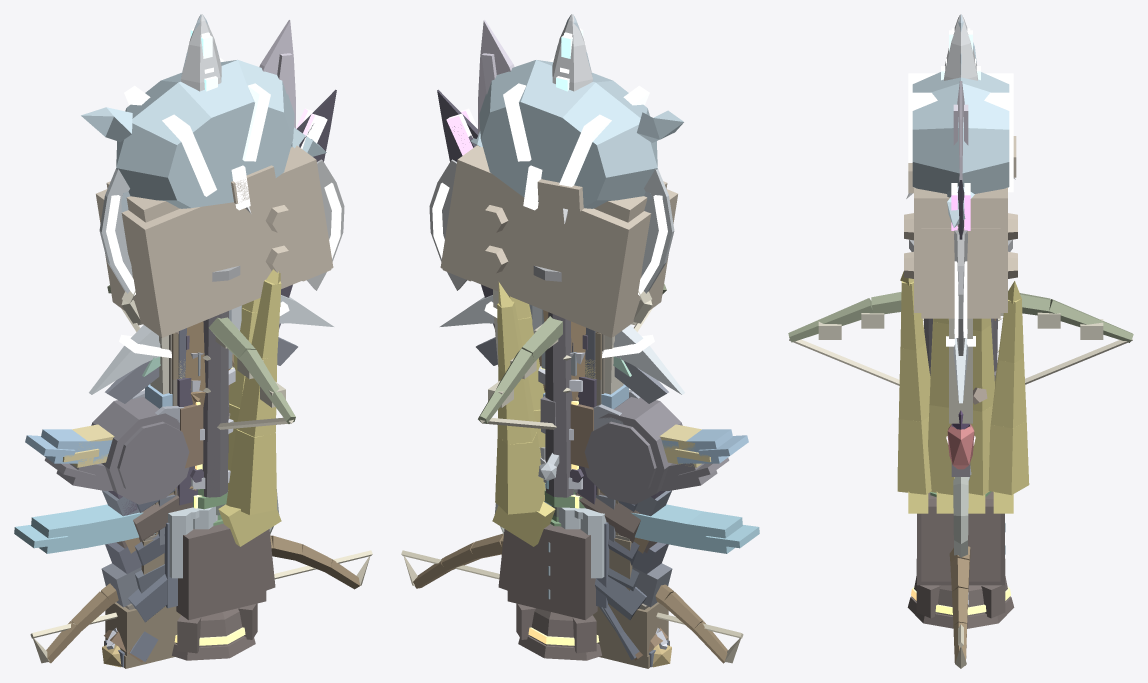
File: weapon.glb
3 renders of one model, left to right at view 1: azimuth 30°, elevation 25°; view 2: azimuth 150°, elevation 25°; view 3: azimuth 270°, elevation 25°, orthographic. The views are drawn at different scales.
Visible parts, largest first — view 1: Shellcrusher_Head, GlacierMaul_Head, MagmaGauntlets_Edge, MagmaGauntlets_Haft, VulkanRepeater_Mag, RiptideSmg_Mag, BasaltScattergun_Mag, GlacierMaul_Glow, GraveBlunderbuss_Haft, BogwoodBow_Haft, Shellcrusher_Spike, MagmaGauntlets_Guard (+31 smaller); view 2: Shellcrusher_Head, GlacierMaul_Head, MagmaGauntlets_Edge, MagmaGauntlets_Haft, VulkanRepeater_Mag, RiptideSmg_Mag, BasaltScattergun_Mag, GraveBlunderbuss_Haft, GlacierMaul_Glow, Shellcrusher_Spike, BogwoodBow_Haft, MagmaGauntlets_Guard (+30 smaller); view 3: MagmaGauntlets_Edge, Shellcrusher_Head, GlacierMaul_Head, MagmaGauntlets_Guard, GatorjawCrossbow_Edge, GlacierMaul_Glow, MagmaGauntlets_Haft, GatorjawCrossbow_Spike, BogwoodBow_Haft, Drowncleaver_Edge, GatorjawCrossbow_Action, Shellcrusher_Spike (+8 smaller).
Boxes of the visible parts, x1=… form: Shellcrusher_Head: x1=96, y1=145, x2=333, y2=337; GlacierMaul_Head: x1=116, y1=60, x2=294, y2=208; MagmaGauntlets_Edge: x1=218, y1=280, x2=281, y2=546; MagmaGauntlets_Haft: x1=176, y1=523, x2=266, y2=647; VulkanRepeater_Mag: x1=91, y1=397, x2=189, y2=504; RiptideSmg_Mag: x1=14, y1=504, x2=155, y2=553; BasaltScattergun_Mag: x1=202, y1=311, x2=229, y2=497; GlacierMaul_Glow: x1=124, y1=57, x2=270, y2=210; GraveBlunderbuss_Haft: x1=105, y1=333, x2=181, y2=666; BogwoodBow_Haft: x1=46, y1=535, x2=360, y2=663; Shellcrusher_Spike: x1=106, y1=165, x2=294, y2=272; MagmaGauntlets_Guard: x1=172, y1=529, x2=275, y2=660; Shellcrusher_Head: x1=440, y1=145, x2=677, y2=337; GlacierMaul_Head: x1=479, y1=60, x2=657, y2=208; MagmaGauntlets_Edge: x1=492, y1=296, x2=555, y2=546; MagmaGauntlets_Haft: x1=507, y1=524, x2=597, y2=647; VulkanRepeater_Mag: x1=584, y1=397, x2=682, y2=504; RiptideSmg_Mag: x1=618, y1=504, x2=759, y2=553; BasaltScattergun_Mag: x1=545, y1=312, x2=573, y2=497; GraveBlunderbuss_Haft: x1=592, y1=332, x2=668, y2=666; GlacierMaul_Glow: x1=503, y1=57, x2=649, y2=210; Shellcrusher_Spike: x1=479, y1=179, x2=667, y2=273; BogwoodBow_Haft: x1=413, y1=533, x2=727, y2=663; MagmaGauntlets_Guard: x1=498, y1=529, x2=601, y2=660; MagmaGauntlets_Edge: x1=897, y1=281, x2=1029, y2=513; Shellcrusher_Head: x1=914, y1=187, x2=1007, y2=318; GlacierMaul_Head: x1=912, y1=72, x2=1009, y2=193; MagmaGauntlets_Guard: x1=907, y1=499, x2=1014, y2=628; GatorjawCrossbow_Edge: x1=788, y1=291, x2=1133, y2=342; GlacierMaul_Glow: x1=908, y1=73, x2=1013, y2=192; MagmaGauntlets_Haft: x1=912, y1=491, x2=1009, y2=616; GatorjawCrossbow_Spike: x1=818, y1=312, x2=1103, y2=352; BogwoodBow_Haft: x1=949, y1=546, x2=970, y2=665; Drowncleaver_Edge: x1=949, y1=318, x2=972, y2=423; GatorjawCrossbow_Action: x1=789, y1=339, x2=1132, y2=385; Shellcrusher_Spike: x1=904, y1=136, x2=1017, y2=278.
Size of the model in its own units: 2.68 by 4.67 by 2.43.
